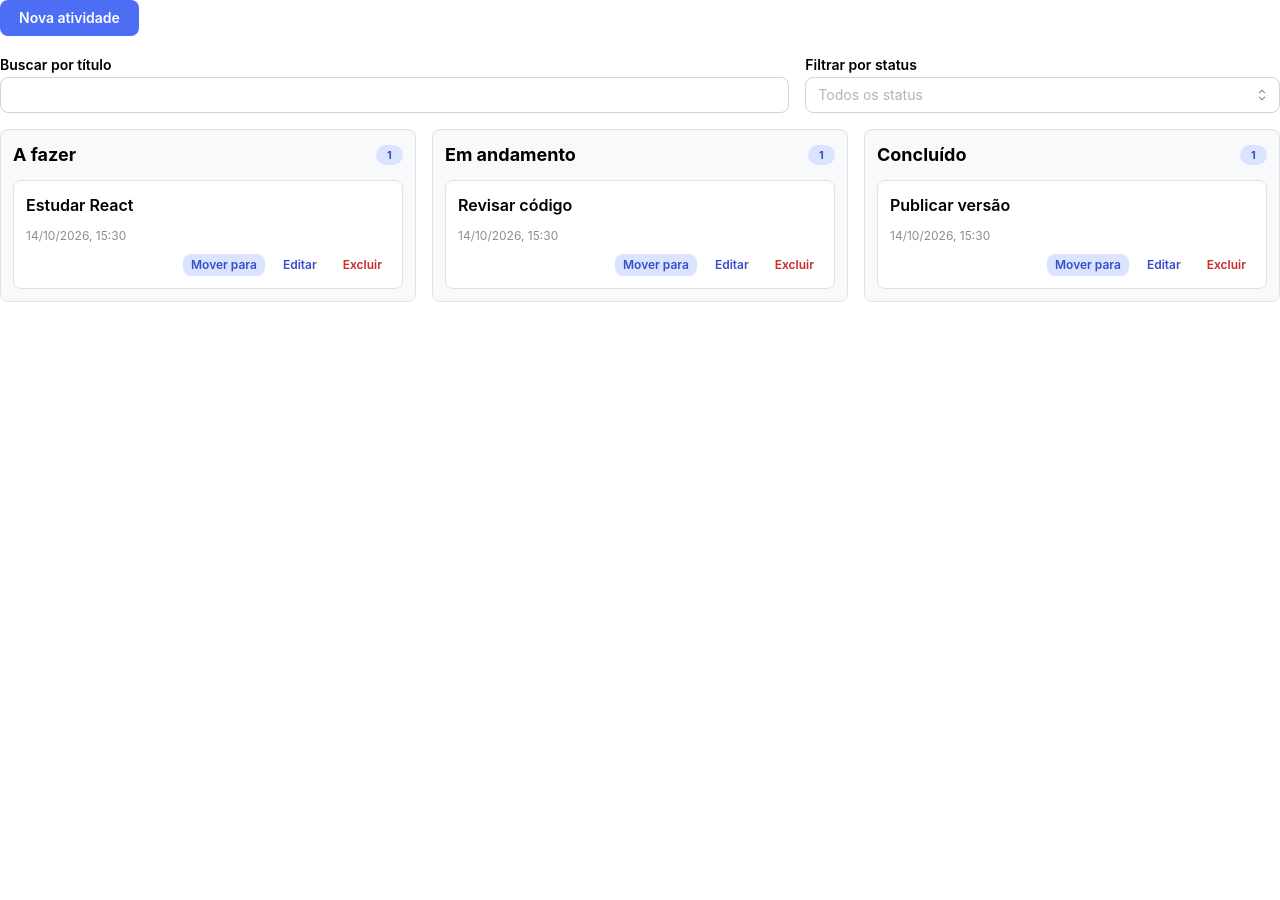
Test: KanbanBoard › exclusão › não envia requisição e mantém a atividade quando cancelado
The image size is (1280, 900).
Click the button "Excluir" below "Estudar React": (362, 266) [335,254,390,276]
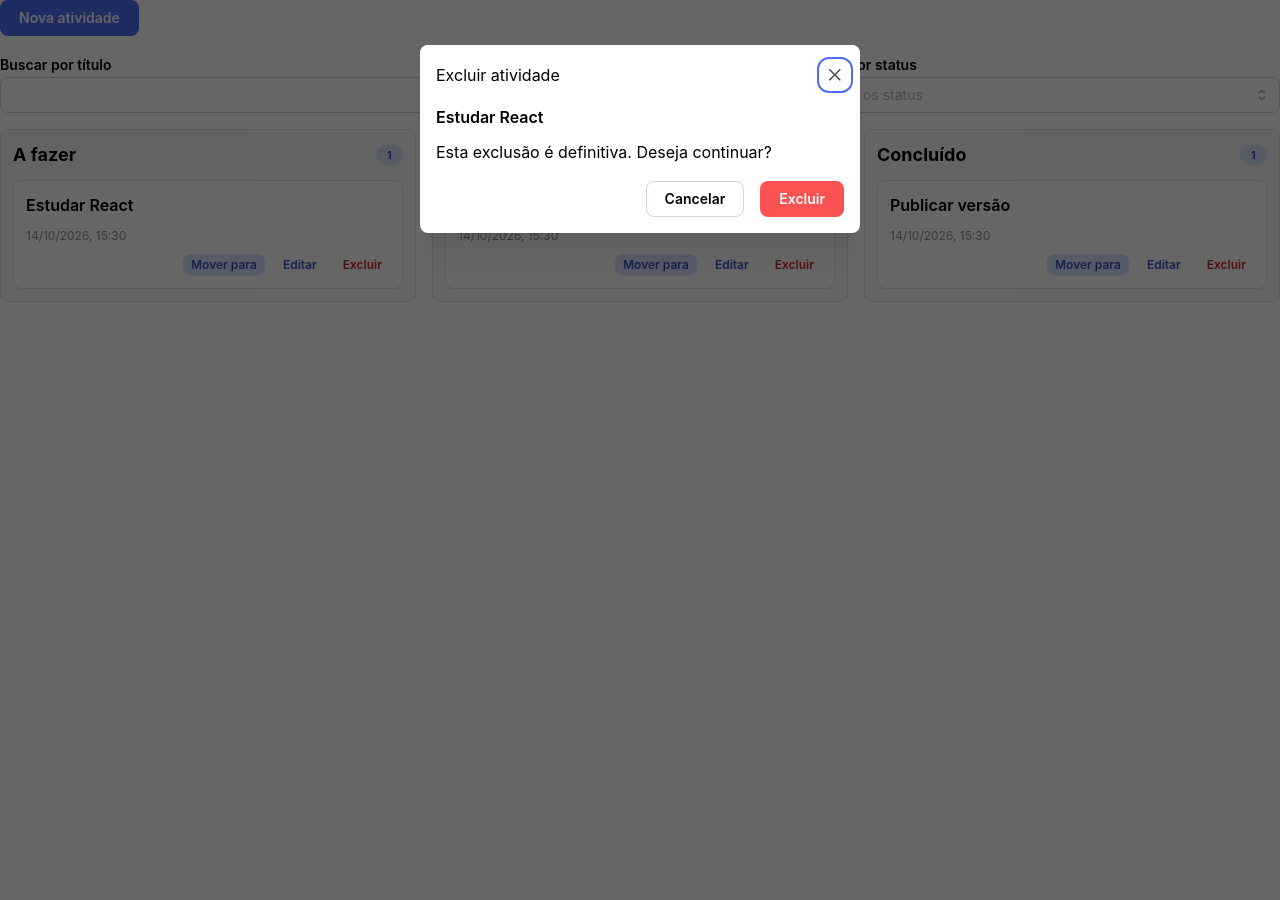
Click the button "Cancelar": (695, 199) [646,181,744,217]
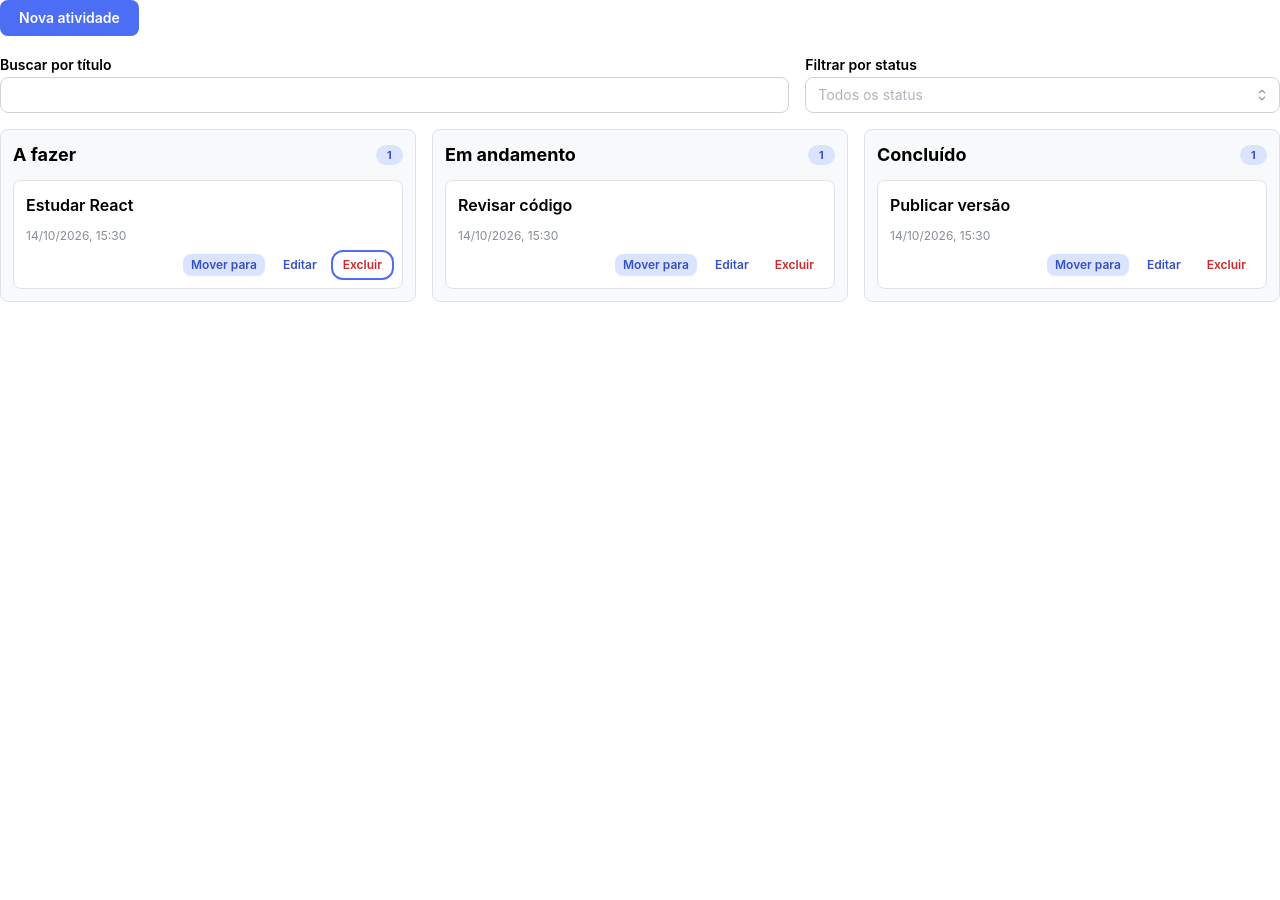
Expected: the text "Estudar React" is shown, [26,195,134,215]
Expected: the dialog is gone
